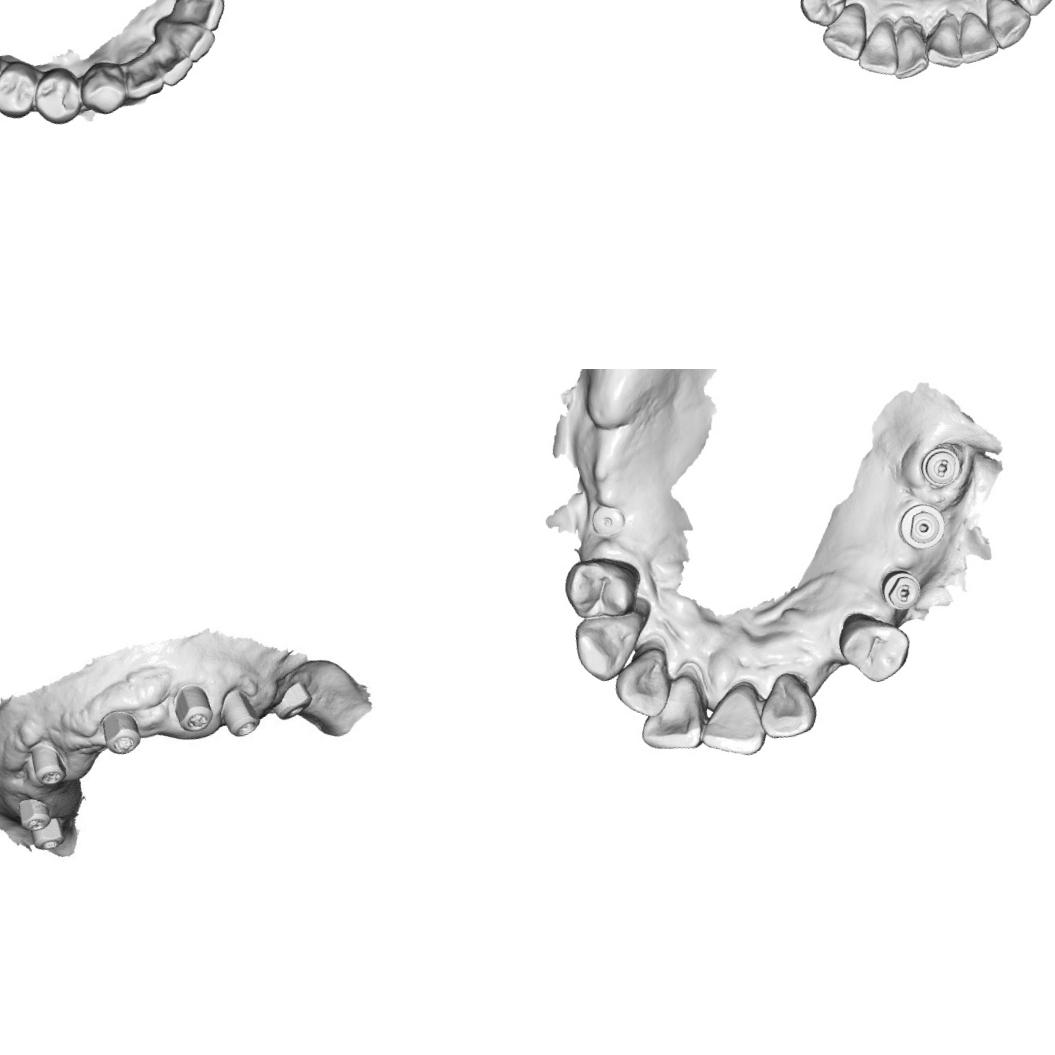canine: (566, 604, 657, 688), (814, 0, 875, 67), (72, 54, 131, 120), (979, 0, 1036, 52)
implant: (892, 497, 950, 555), (19, 737, 74, 794), (167, 683, 216, 744), (215, 689, 266, 745), (94, 704, 146, 758), (584, 496, 632, 544), (268, 678, 312, 724), (8, 790, 52, 836), (26, 815, 70, 860)
implant_minus: (917, 441, 967, 494), (878, 566, 924, 614)
incisor: (626, 668, 716, 761), (605, 642, 683, 726), (689, 686, 770, 766), (748, 668, 822, 746), (848, 18, 904, 83), (917, 11, 967, 74), (950, 6, 1000, 65), (883, 22, 932, 80), (149, 33, 197, 89), (169, 16, 219, 66), (118, 52, 166, 102), (171, 0, 230, 39)
premolar: (828, 601, 920, 692), (556, 545, 646, 630), (26, 62, 86, 129), (0, 57, 44, 124), (793, 0, 853, 31), (1004, 0, 1055, 20)
